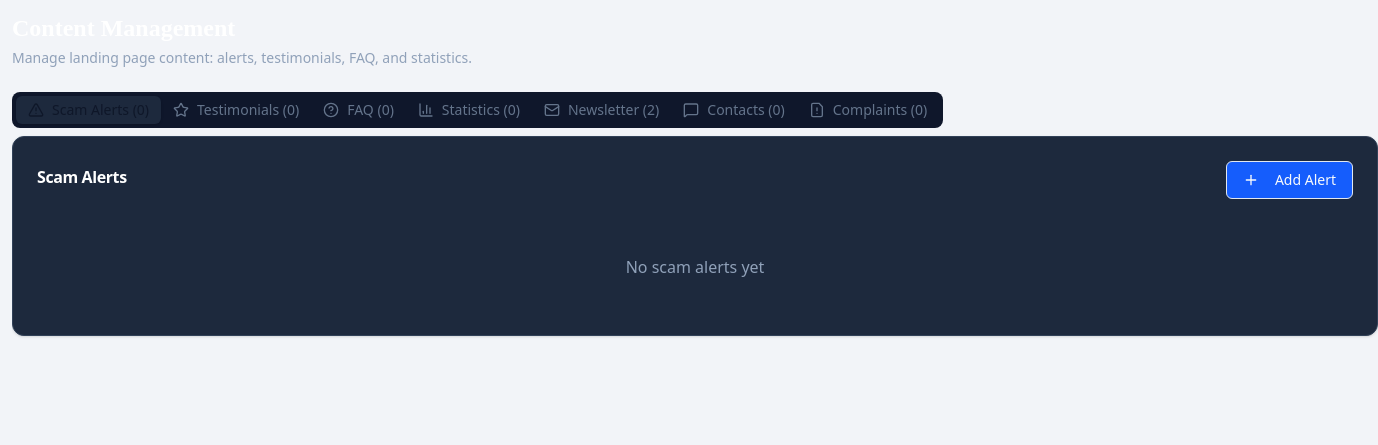
Test case: ContentManagement — newsletter bulk-delete flow › 'Delete selected' count reflects all selected rows when multiple are checked
Click the tab with test id "content-tab-newsletter" at (602, 110), box [532,96,671,124]
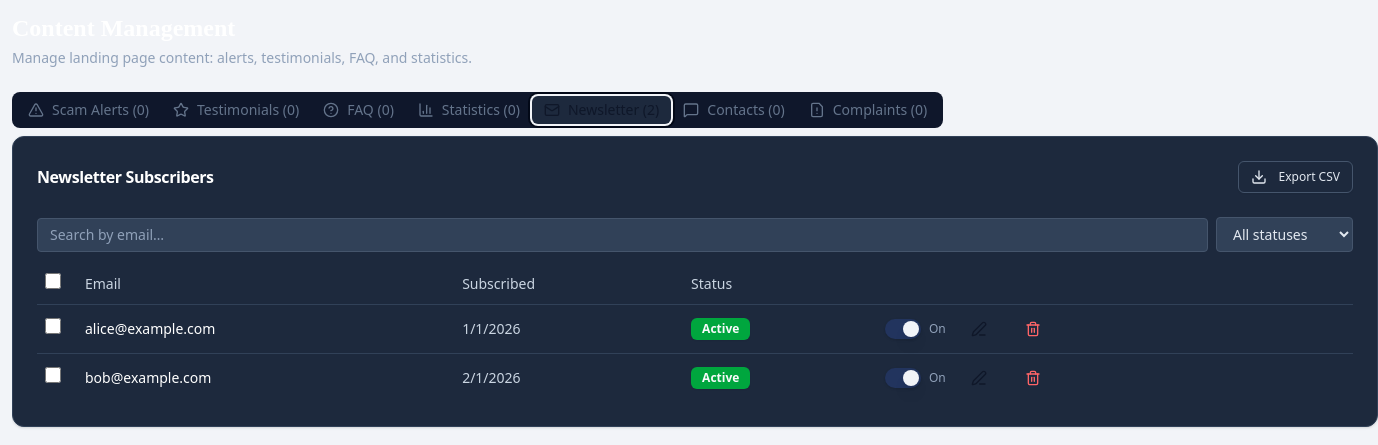
Click the checkbox with test id "checkbox-newsletter-1" at (53, 326), box [45,318,61,334]
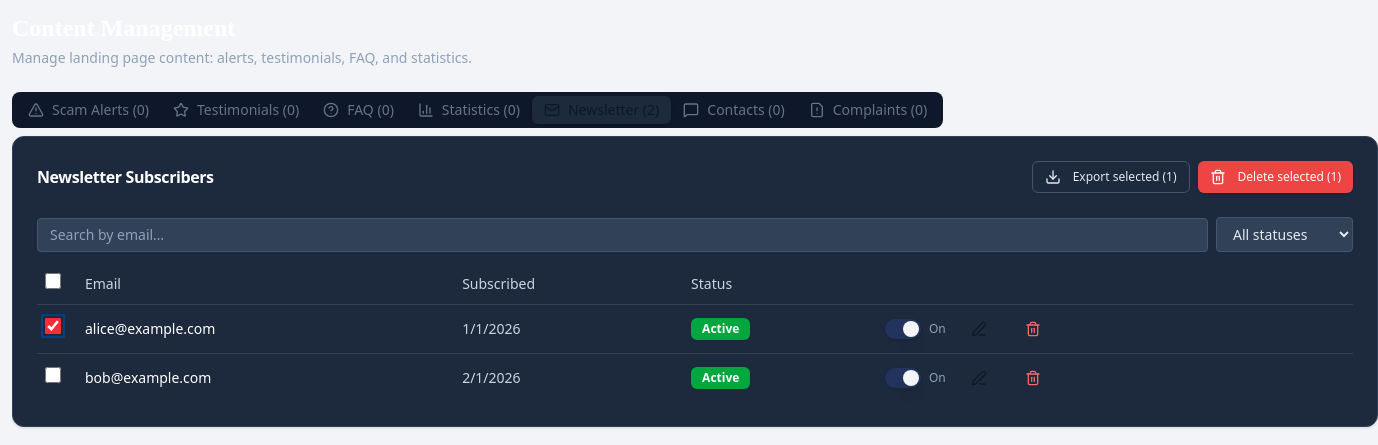
Click the checkbox with test id "checkbox-newsletter-2" at (53, 375), box [45,367,61,383]
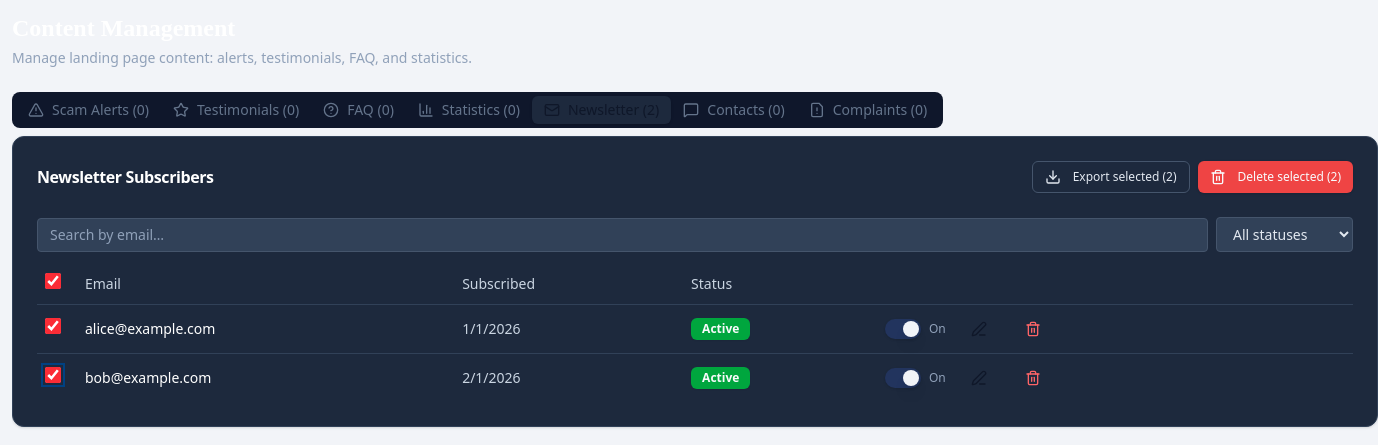
Now the button with test id "button-bulk-delete-newsletter" shows "2", box [1198,161,1353,193]
